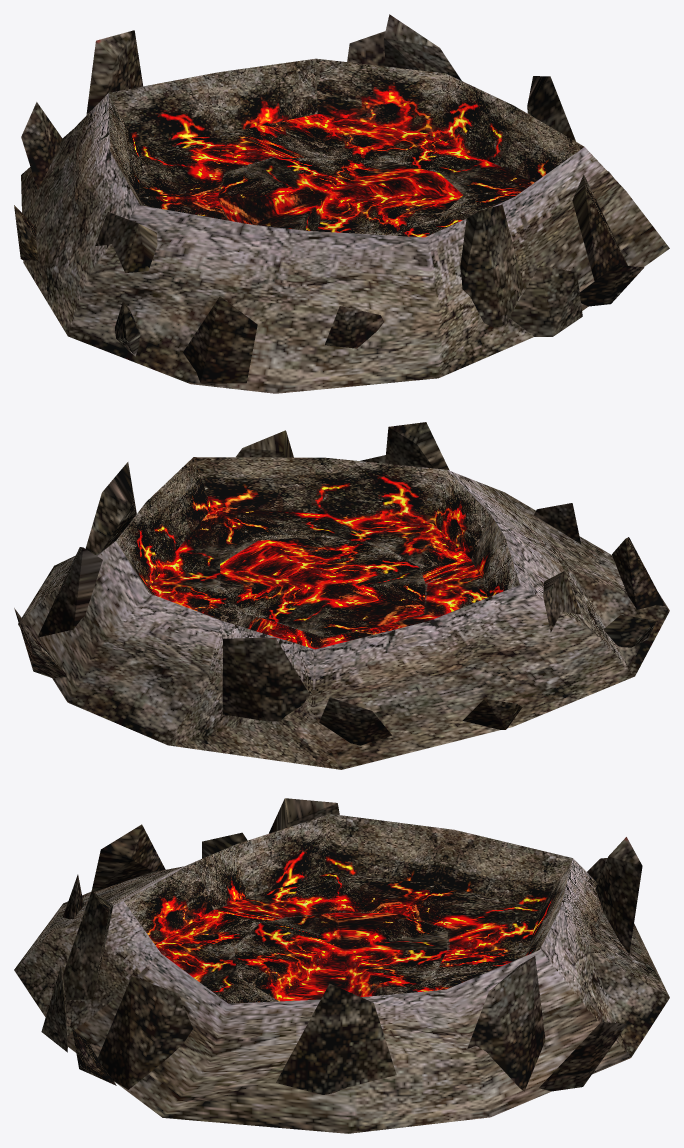
Rendered from idle.glb.
3 views of the same model, one above another, from view 1: azimuth 30°, elevation 25°; view 2: azimuth 150°, elevation 25°; view 3: azimuth 270°, elevation 25° (orthographic). The views are drawn at different scales.
Visible parts, largest first — view 1: MeshRoot; view 2: MeshRoot; view 3: MeshRoot.
Part boxes in pixels (<box>): MeshRoot: <box>14,14,669,393</box>; MeshRoot: <box>14,422,669,769</box>; MeshRoot: <box>14,798,669,1133</box>.
Size of the model in its own units: 17.94 by 3.55 by 17.94.
Materials: 1 (1 with a texture image).
